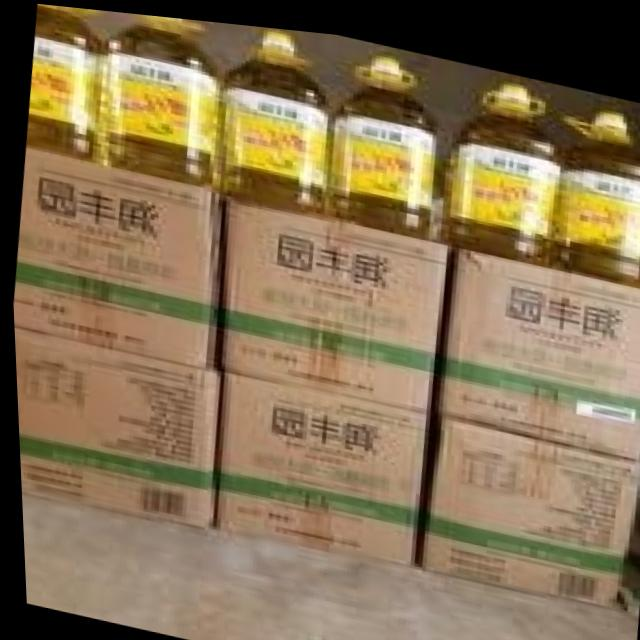box: (221, 191, 451, 403), (12, 148, 217, 366), (438, 237, 640, 448), (417, 407, 640, 596), (12, 322, 218, 524), (211, 365, 424, 555)
